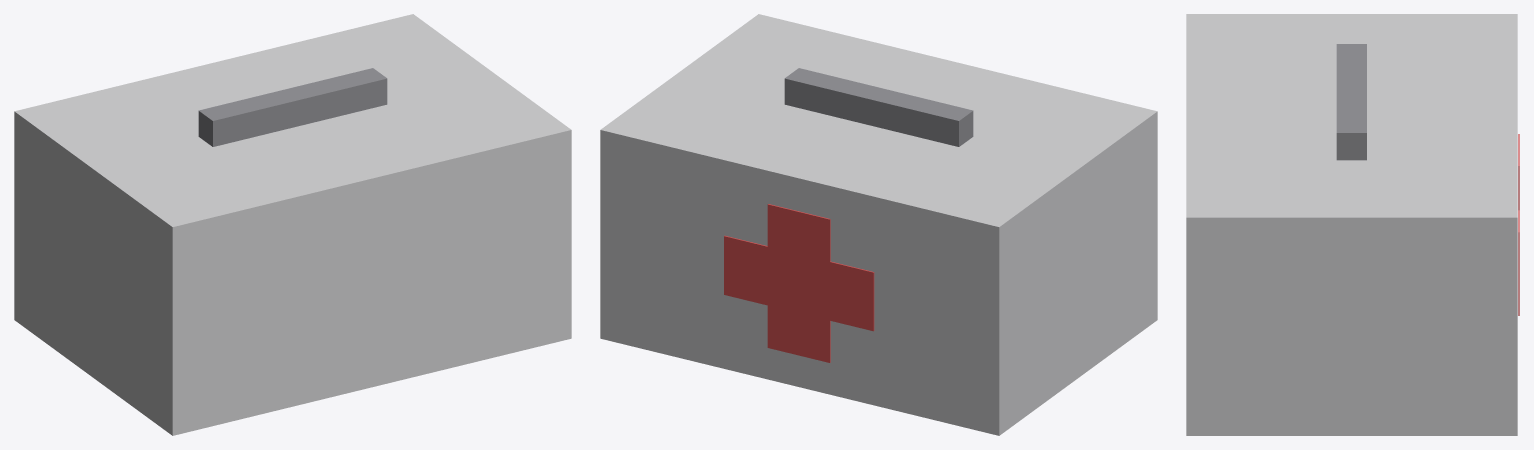
File: medical_kit.glb
3 renders of one model, left to right at view 1: azimuth 30°, elevation 25°; view 2: azimuth 150°, elevation 25°; view 3: azimuth 270°, elevation 25°, orthographic. The views are drawn at different scales.
Visible parts, largest first — view 1: kit_body, handle; view 2: kit_body, cross_h, handle, cross_v; view 3: kit_body, handle.
Part boxes in pixels (x1,y1,x2,y2): kit_body: (14,14,571,435); handle: (198,68,387,146); kit_body: (600,14,1157,435); cross_h: (724,235,874,331); handle: (784,68,973,146); cross_v: (767,204,830,362); kit_body: (1186,14,1517,435); handle: (1336,44,1366,160).
Size of the model in its own units: 0.32 by 0.18 by 0.2215.
